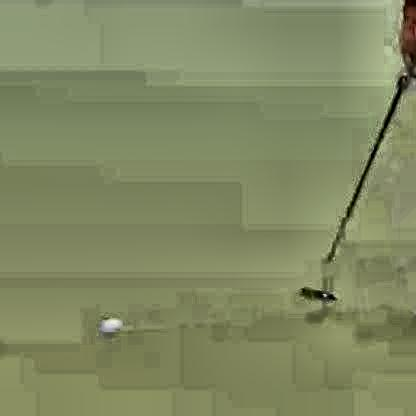golfball: (97, 314, 120, 334)
